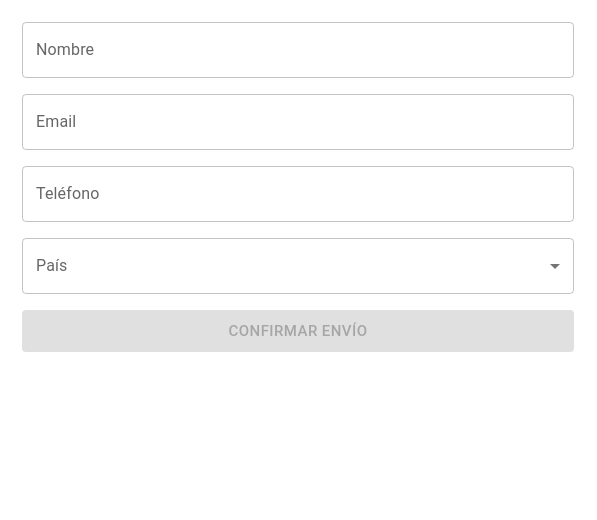
ShippingForm component › enables submit button when all fields are valid
Type "Diego" into the field labelled "Nombre" at (298, 50), box x1=22 y1=22 x2=574 y2=78
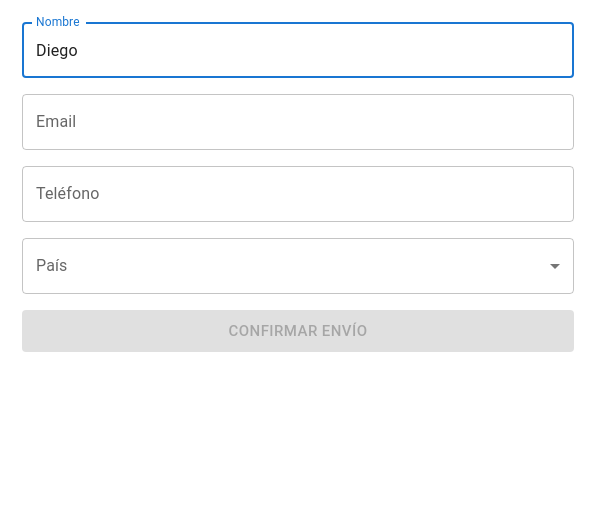
Type "correo@gmail.com" into the field labelled "Email" at (298, 122), box x1=22 y1=94 x2=574 y2=150
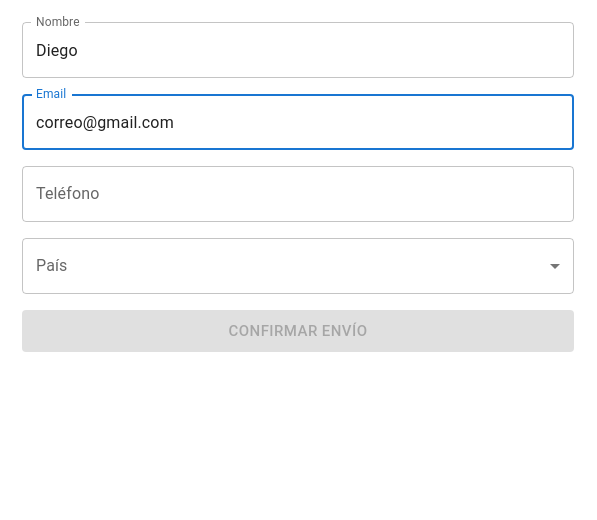
Type "3008536112" into the field labelled "Teléfono" at (298, 194), box x1=22 y1=166 x2=574 y2=222
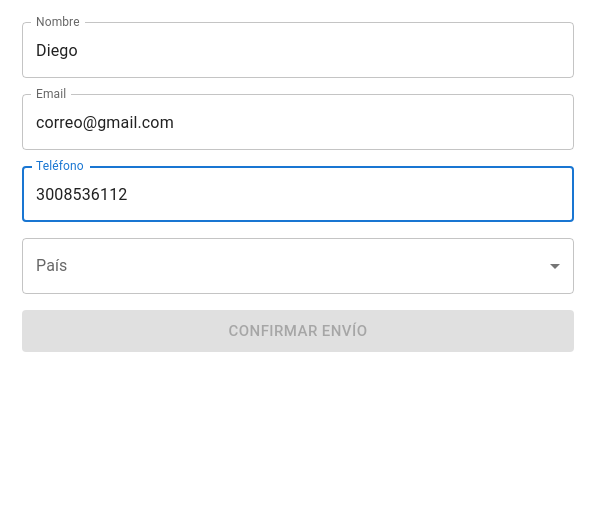
Press the mouse on the dropdown named "país" at (298, 266), box x1=22 y1=238 x2=574 y2=294
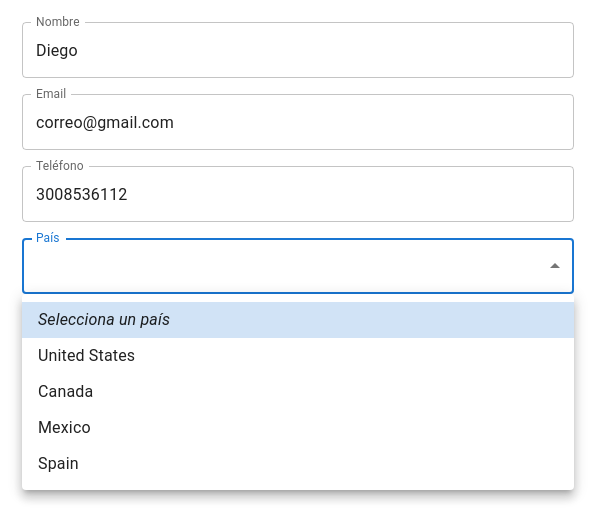
Click the option "Mexico" at (64, 428), box x1=38 y1=418 x2=91 y2=437
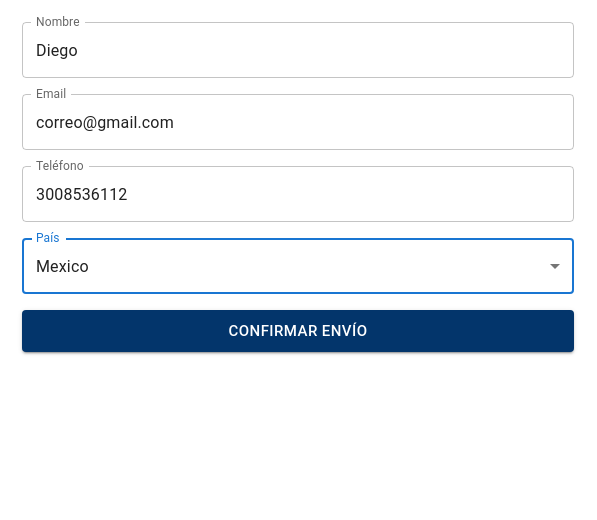
Check: the button "Confirmar Envío" is enabled, box x1=22 y1=310 x2=574 y2=352
